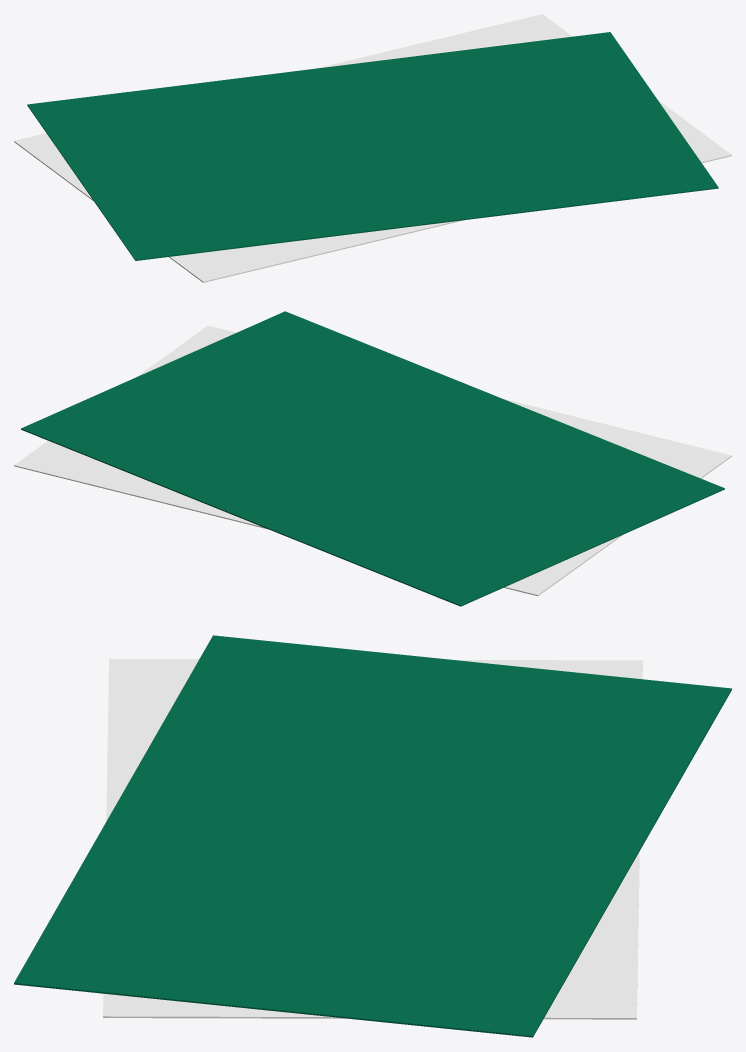
Rendered from hojas.fbx.
3 views of the same model, one above another, from view 1: azimuth 30°, elevation 25°; view 2: azimuth 150°, elevation 25°; view 3: azimuth 270°, elevation 25° (orthographic). The views are drawn at different scales.
Visible parts, largest first — view 1: Plano.002, Plano.001; view 2: Plano.002, Plano.001; view 3: Plano.002, Plano.001.
Boxes of the visible parts, x1=… form: Plano.002: x1=27, y1=32, x2=718, y2=260; Plano.001: x1=14, y1=14, x2=731, y2=282; Plano.002: x1=21, y1=311, x2=724, y2=606; Plano.001: x1=14, y1=325, x2=731, y2=596; Plano.002: x1=14, y1=635, x2=731, y2=1037; Plano.001: x1=103, y1=658, x2=642, y2=1019.
Size of the model in its own units: 55.7 by 0.2767 by 42.18.
